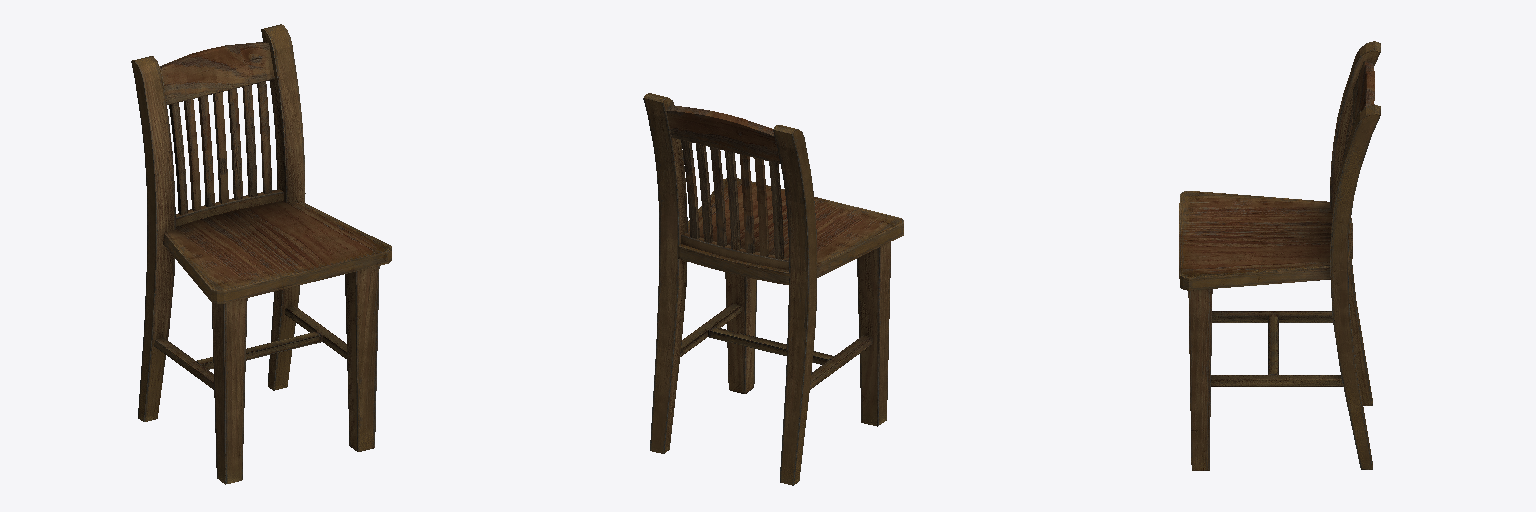
3 renders of one model, left to right at view 1: azimuth 30°, elevation 25°; view 2: azimuth 150°, elevation 25°; view 3: azimuth 270°, elevation 25°, orthographic.
Visible parts, largest first — view 1: chair; view 2: chair; view 3: chair.
Boxes of the visible parts, <box> form: chair: <box>131,24,391,484</box>; chair: <box>643,93,903,485</box>; chair: <box>1179,41,1380,470</box>.
Bounding box in the file's own units: 11.2 × 21.22 × 10.84.
Materials: 1 (1 with a texture image).